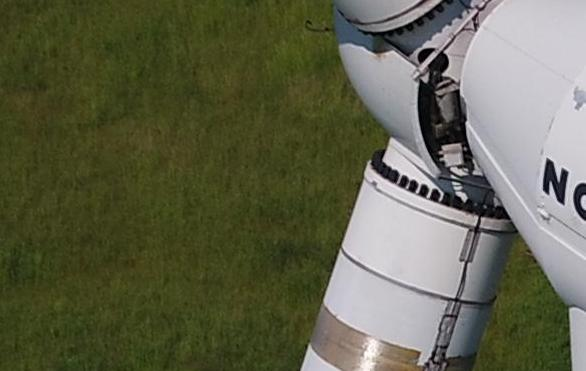damage: (373, 35, 390, 57), (573, 85, 586, 110)
